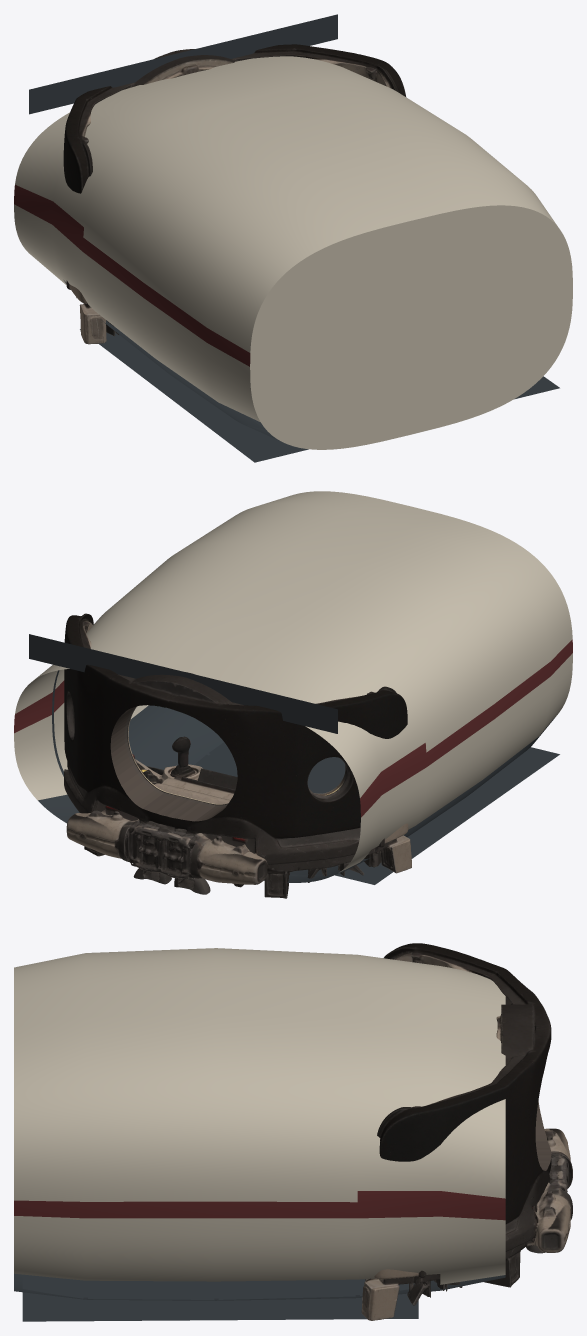
Rendered from cabina-integrada.glb.
The picture shows the model from 3 angles, top to bottom: view 1: azimuth 30°, elevation 25°; view 2: azimuth 150°, elevation 25°; view 3: azimuth 270°, elevation 25°; orthographic projection. The views are drawn at different scales.
Visible parts, largest first — view 1: Curved pilot cabin walls and ceiling, Rear cabin closure, original-command-deck-opened, Forward roof closure seal, Pilot footwell floor; view 2: Curved pilot cabin walls and ceiling, original-command-deck-opened, Pilot footwell floor, Forward roof closure seal; view 3: Curved pilot cabin walls and ceiling, original-command-deck-opened, Pilot footwell floor.
Boxes of the visible parts, x1=… form: Curved pilot cabin walls and ceiling: x1=14, y1=56, x2=557, y2=441; Rear cabin closure: x1=250, y1=205, x2=572, y2=449; original-command-deck-opened: x1=63, y1=44, x2=405, y2=344; Forward roof closure seal: x1=29, y1=14, x2=337, y2=114; Pilot footwell floor: x1=80, y1=329, x2=559, y2=462; Curved pilot cabin walls and ceiling: x1=14, y1=491, x2=572, y2=882; original-command-deck-opened: x1=64, y1=613, x2=411, y2=898; Pilot footwell floor: x1=194, y1=742, x2=559, y2=884; Forward roof closure seal: x1=29, y1=634, x2=337, y2=733; Curved pilot cabin walls and ceiling: x1=14, y1=948, x2=505, y2=1300; original-command-deck-opened: x1=361, y1=943, x2=572, y2=1320; Pilot footwell floor: x1=22, y1=1274, x2=418, y2=1321.
Size of the model in its own units: 2.04 by 1.3 by 2.57.
5 materials, 1 textured.
